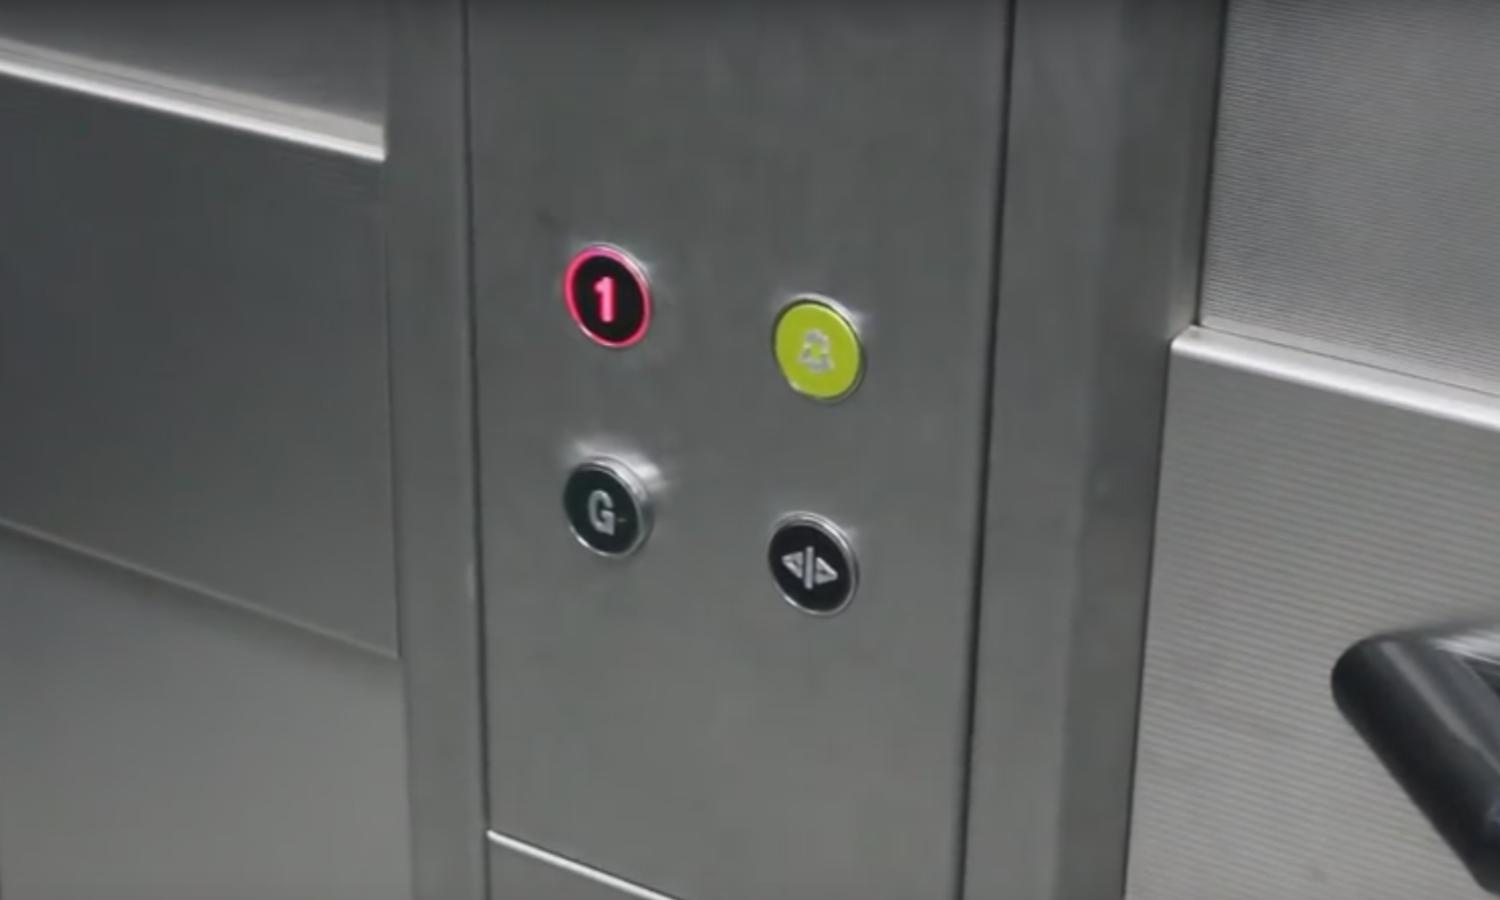1: (561, 241, 652, 351)
G: (559, 453, 652, 562)
alarm: (769, 292, 869, 402)
open: (767, 510, 859, 619)
